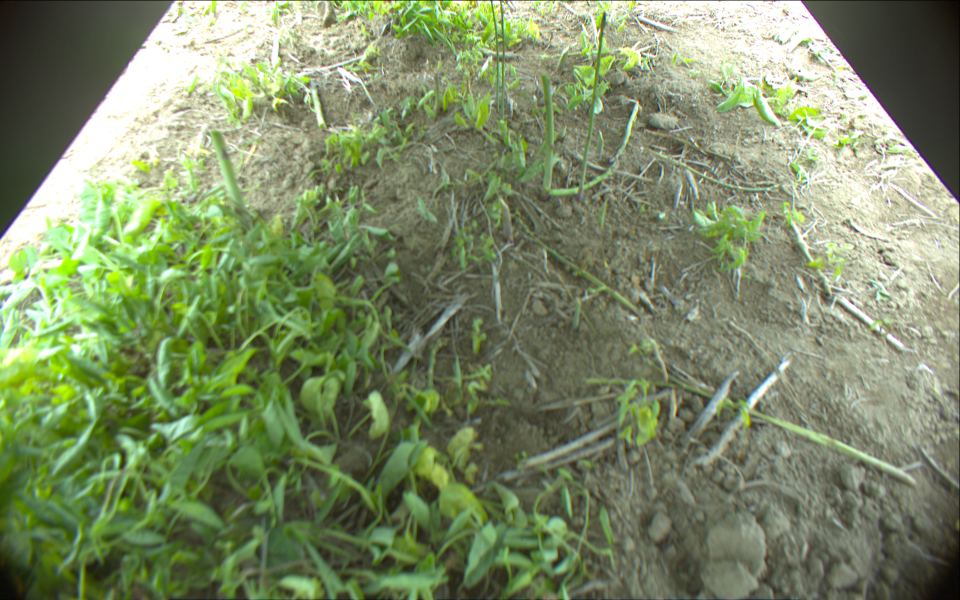aspa: (642, 355, 915, 485), (547, 100, 641, 197), (581, 10, 607, 198), (208, 132, 242, 214), (487, 1, 502, 112), (541, 74, 552, 196), (499, 1, 506, 122), (310, 80, 326, 123)
